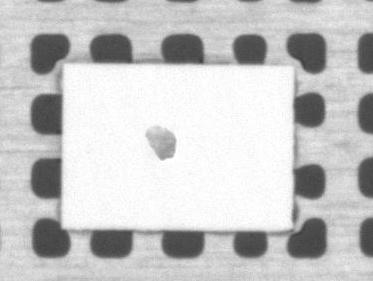DIE_INK: (144, 123, 180, 165)
